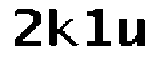1: (84, 5, 115, 51)
2: (11, 6, 43, 54)
k: (47, 2, 81, 52)
u: (116, 14, 150, 51)
